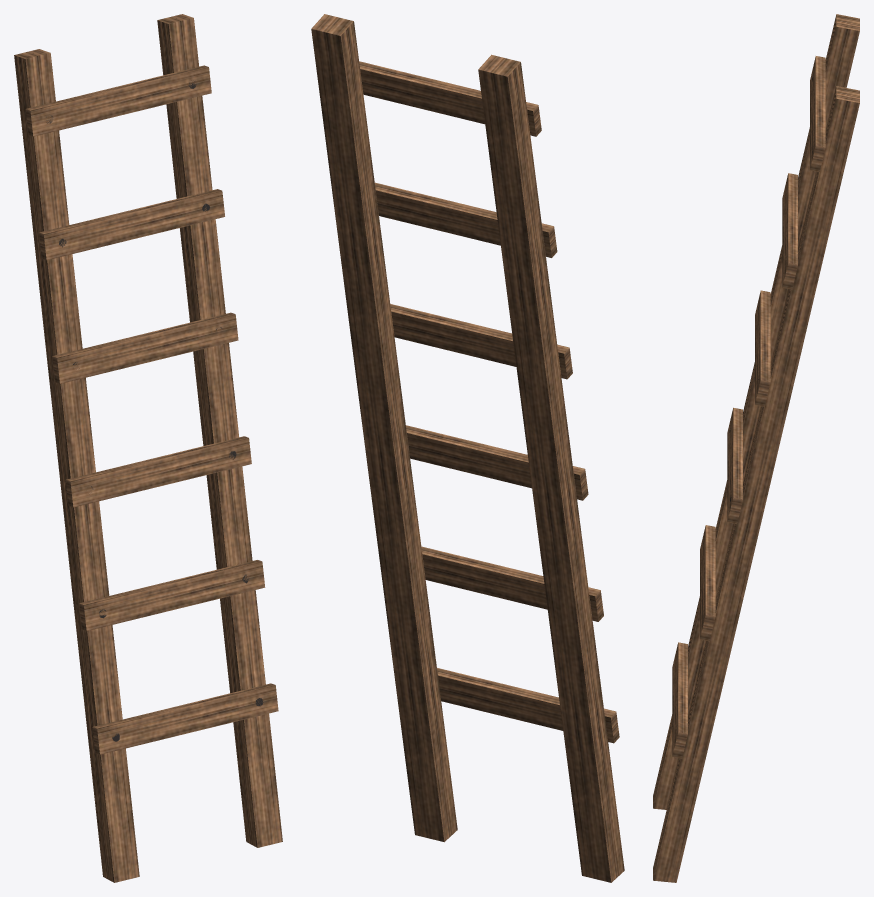
The model's file is ladder.glb.
3 views of the same model, side by side, from view 1: azimuth 30°, elevation 25°; view 2: azimuth 150°, elevation 25°; view 3: azimuth 270°, elevation 25° (orthographic). The views are drawn at different scales.
Visible parts, largest first — view 1: ladder; view 2: ladder; view 3: ladder.
Boxes of the visible parts, x1,y1,x2,y2 form: ladder: (14, 14, 282, 882); ladder: (311, 14, 624, 882); ladder: (653, 14, 859, 882).
Bounding box in the file's own units: 0.53 × 2.16 × 0.5161.
3 materials, 2 textured.
